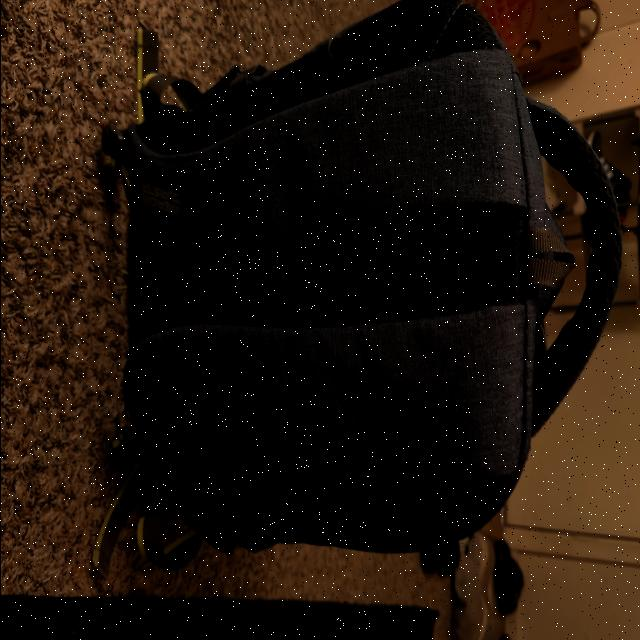bag: (135, 1, 610, 538)
